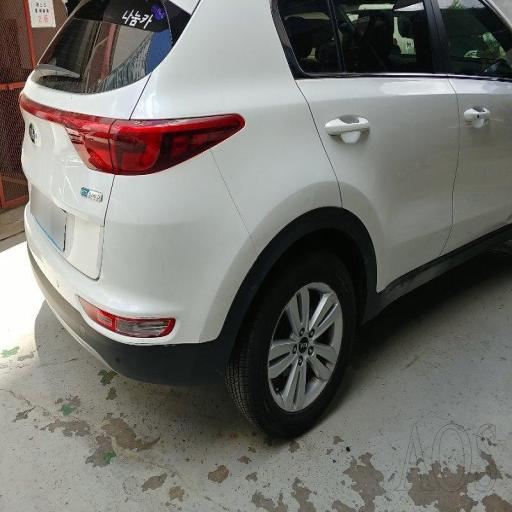scratch: (26, 74, 166, 300)
